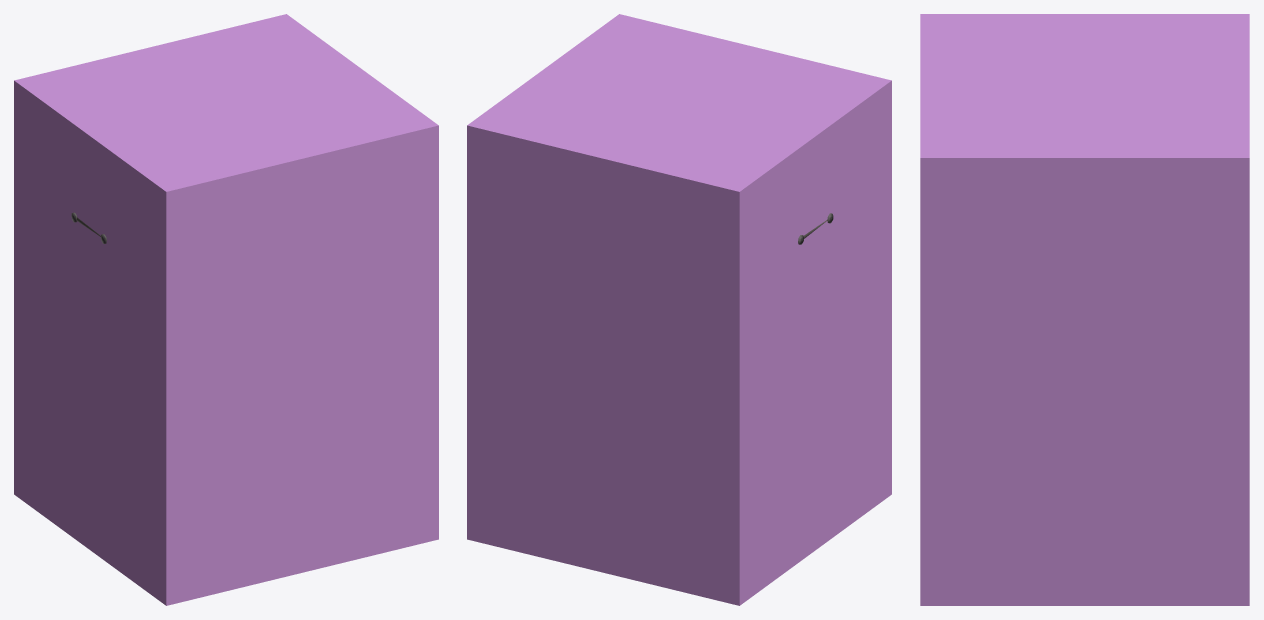
Rendered from trash_bin.DAE.
The picture shows the model from 3 angles, left to right: view 1: azimuth 30°, elevation 25°; view 2: azimuth 150°, elevation 25°; view 3: azimuth 270°, elevation 25°; orthographic projection. The views are drawn at different scales.
Visible parts, largest first — view 1: bounds; view 2: bounds; view 3: bounds.
Part boxes in pixels (x1=…): bounds: x1=14, y1=14, x2=438, y2=605; bounds: x1=467, y1=14, x2=891, y2=605; bounds: x1=920, y1=14, x2=1249, y2=605.
Size of the model in its own units: 88.33 by 84.98 by 127.
